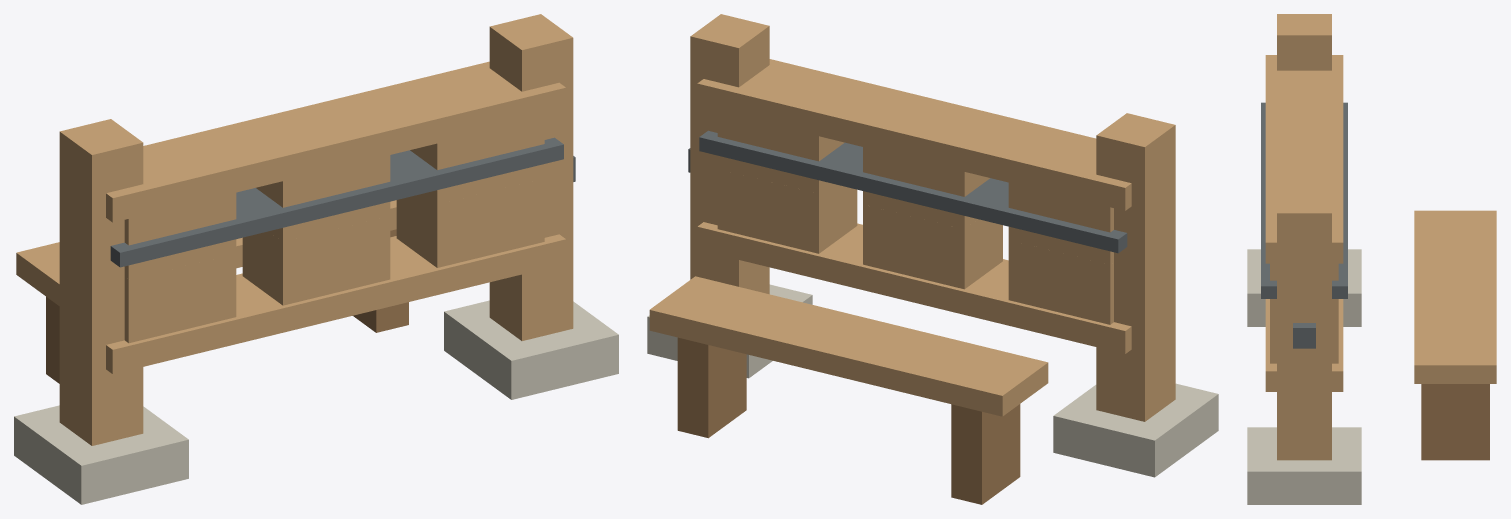
Rendered from stocks.glb.
3 views of the same model, side by side, from view 1: azimuth 30°, elevation 25°; view 2: azimuth 150°, elevation 25°; view 3: azimuth 270°, elevation 25° (orthographic). The views are drawn at different scales.
Parts seen in each view (by area): view 1: stocks, stocks-board/oak, stocks-board/iron; view 2: stocks, stocks-board/oak, stocks-board/iron; view 3: stocks, stocks-board/oak, stocks-board/iron.
Boxes of the visible parts, bbox=[...] form: stocks: bbox=[14, 14, 618, 504]; stocks-board/oak: bbox=[106, 61, 565, 279]; stocks-board/iron: bbox=[110, 137, 563, 267]; stocks: bbox=[647, 14, 1218, 504]; stocks-board/oak: bbox=[697, 59, 1131, 264]; stocks-board/iron: bbox=[699, 130, 1127, 253]; stocks: bbox=[1247, 14, 1496, 504]; stocks-board/oak: bbox=[1265, 55, 1343, 309]; stocks-board/iron: bbox=[1261, 102, 1347, 298].
Bounding box in the file's own units: 2.3 × 1.35 × 1.09.
